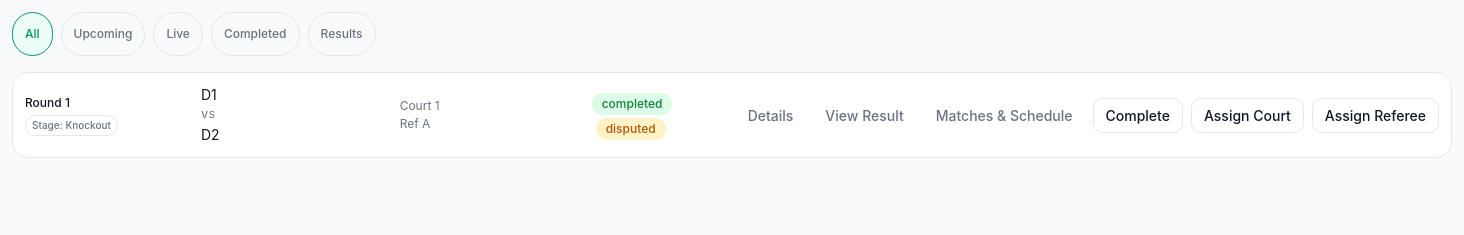
it: Tournament Hub Results management (Step 3F) › 10. dispute/correction are NOT duplicated inside the Hub (shared-module link only)
Click the button "Results" at {"x": 342, "y": 34}, box [308,12,376,56]
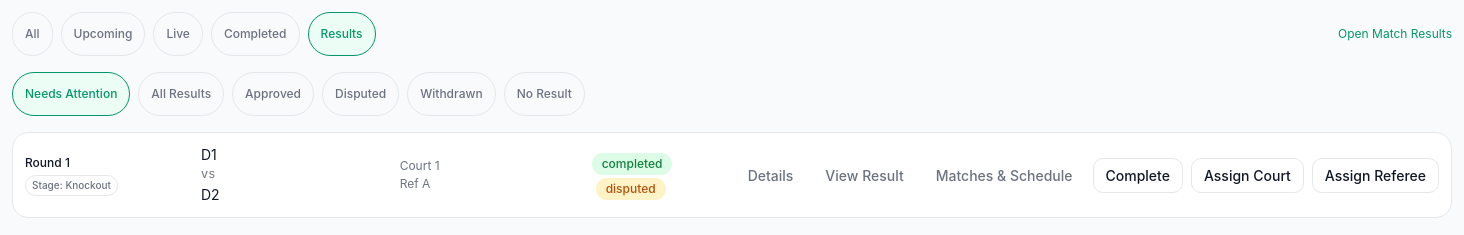
expect the button "Open Match Results" is shown: met, box [1338,12,1452,56]
